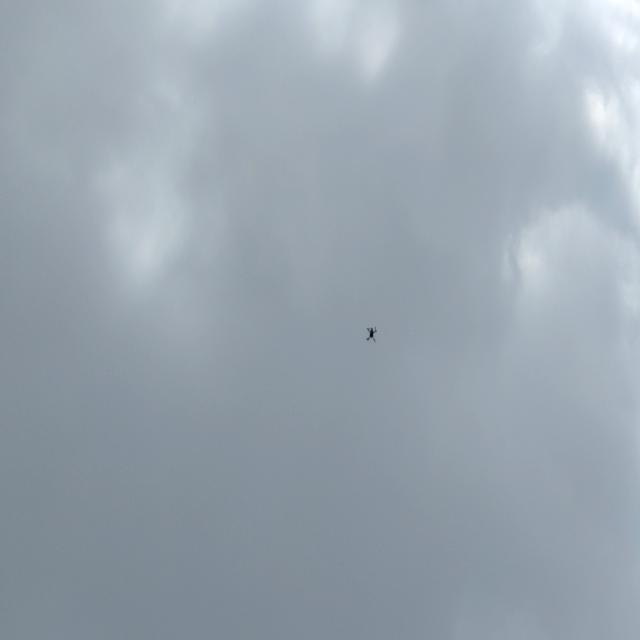drone: (363, 321, 382, 348)
